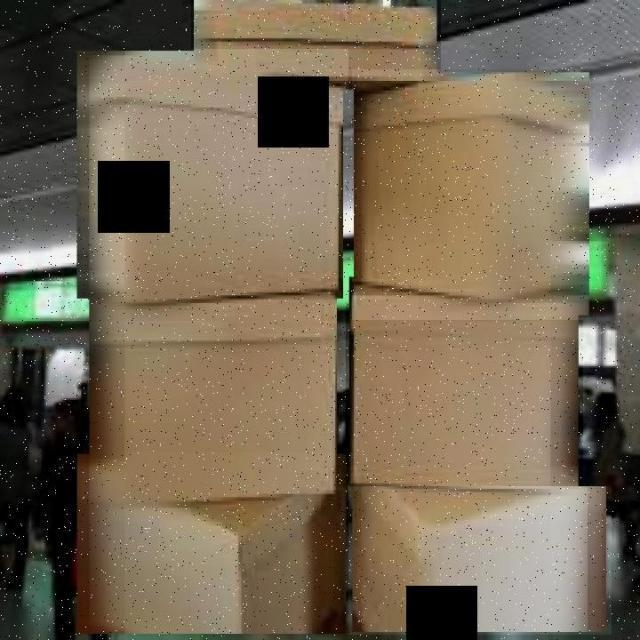box: (72, 49, 348, 302), (352, 69, 593, 320), (86, 295, 342, 508), (346, 274, 584, 500), (73, 452, 352, 636), (348, 486, 612, 636), (191, 0, 441, 91)
